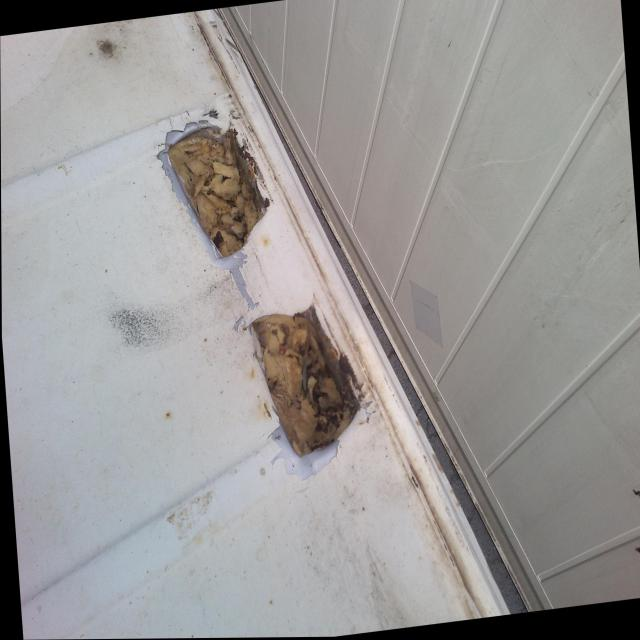hole: (229, 283, 363, 488), (147, 112, 287, 290)
